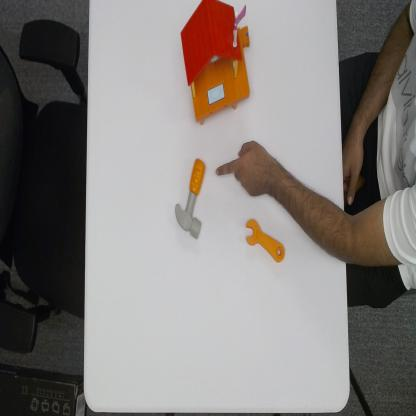Arm: (273, 157, 416, 270)
Hammer: (174, 156, 206, 243)
Hand: (214, 140, 272, 198)
House: (179, 0, 253, 129)
Screwdriver: (244, 215, 287, 265)
